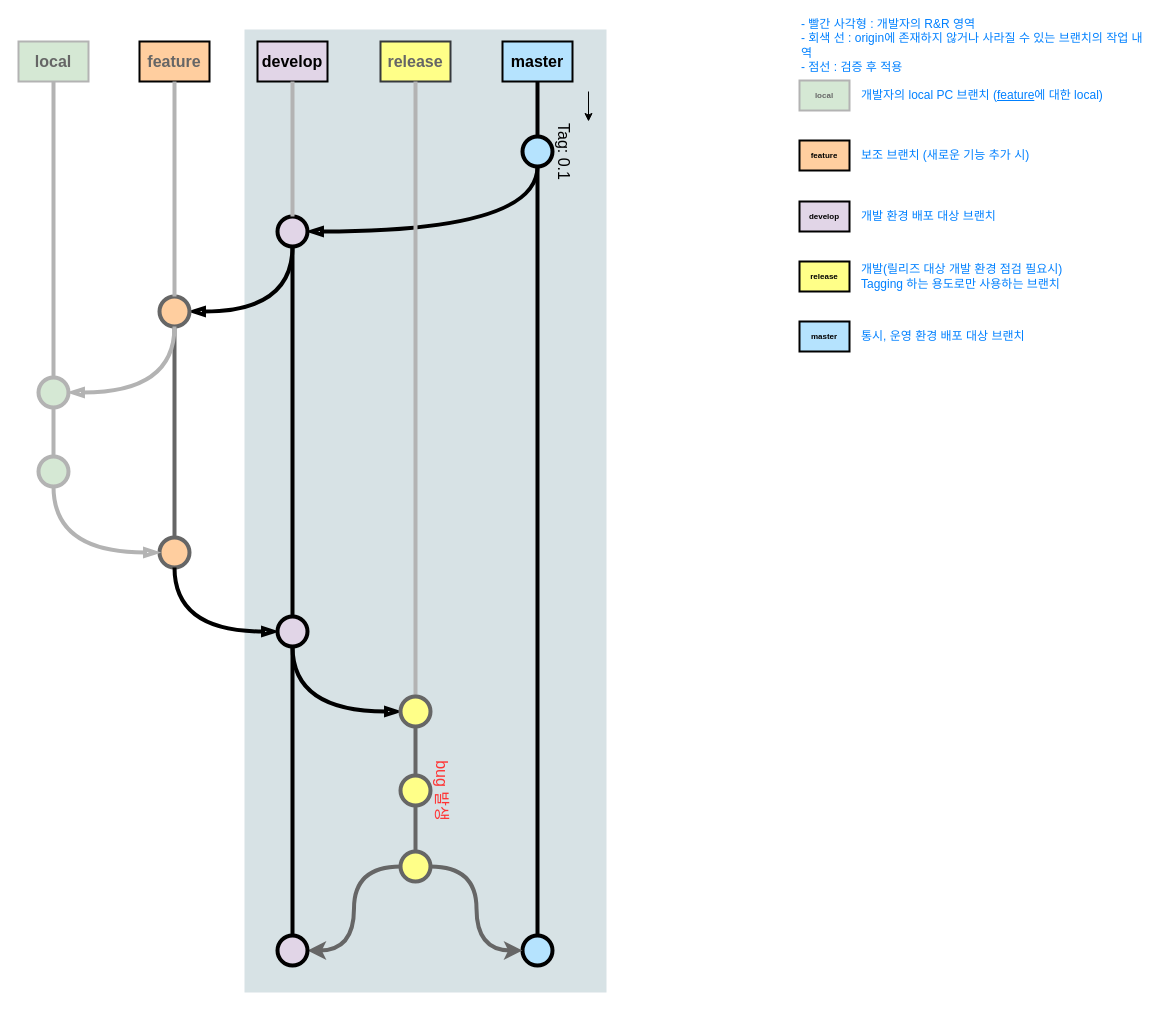
Image size: 1166x1010. Some labels were removed from this diagram. The shapes that lost their labels are listed below. From the top down, each one's box as (x1, y1, x2, y2) in pixels, then its label:
(398, 694, 432, 728): (Tag 1.0 시작)
(398, 849, 432, 883): bug fix
(520, 933, 554, 967): Tag: 1.0
